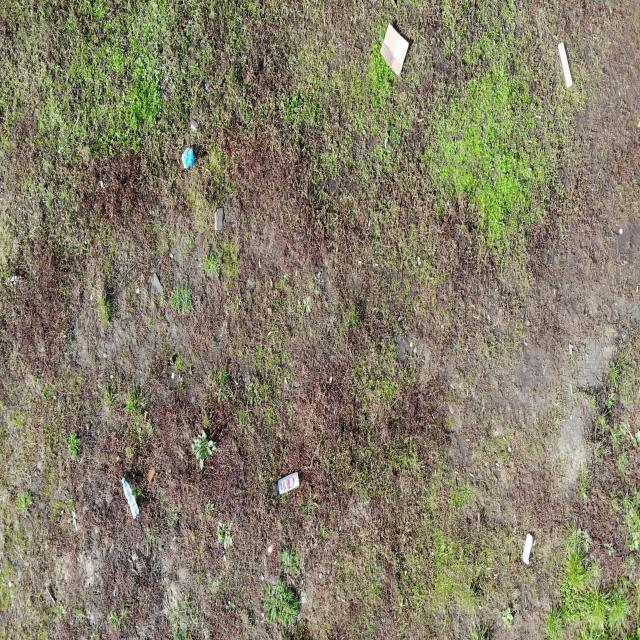rubbish: (378, 21, 410, 76), (121, 477, 140, 521), (557, 41, 573, 87), (274, 469, 300, 497), (181, 145, 196, 172), (521, 532, 533, 565), (619, 226, 624, 235)
